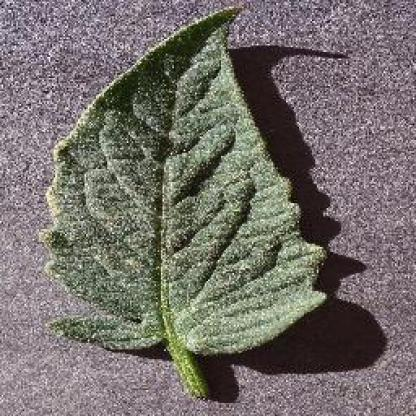bad leaf: (148, 238, 321, 326), (85, 263, 267, 346), (145, 197, 320, 275), (72, 93, 183, 209), (142, 106, 262, 211), (140, 1, 252, 102), (62, 204, 201, 284)
